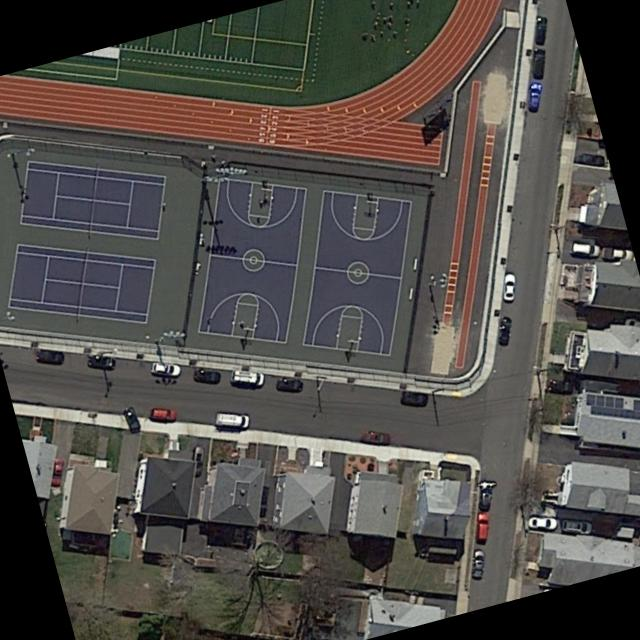small-vehicle: (210, 410, 252, 427), (566, 237, 600, 258), (226, 367, 263, 385), (524, 79, 543, 112), (120, 404, 141, 432), (598, 245, 632, 262), (147, 361, 183, 377), (84, 353, 117, 370), (495, 314, 511, 347), (529, 45, 545, 78), (560, 517, 591, 534), (271, 376, 303, 392), (468, 547, 485, 577), (473, 509, 489, 539), (574, 150, 605, 165), (358, 428, 389, 443), (532, 13, 547, 44), (192, 367, 221, 383), (49, 457, 64, 487), (475, 485, 493, 510), (396, 389, 426, 404), (500, 270, 515, 300), (33, 348, 63, 363), (147, 405, 176, 420), (527, 516, 557, 530)
